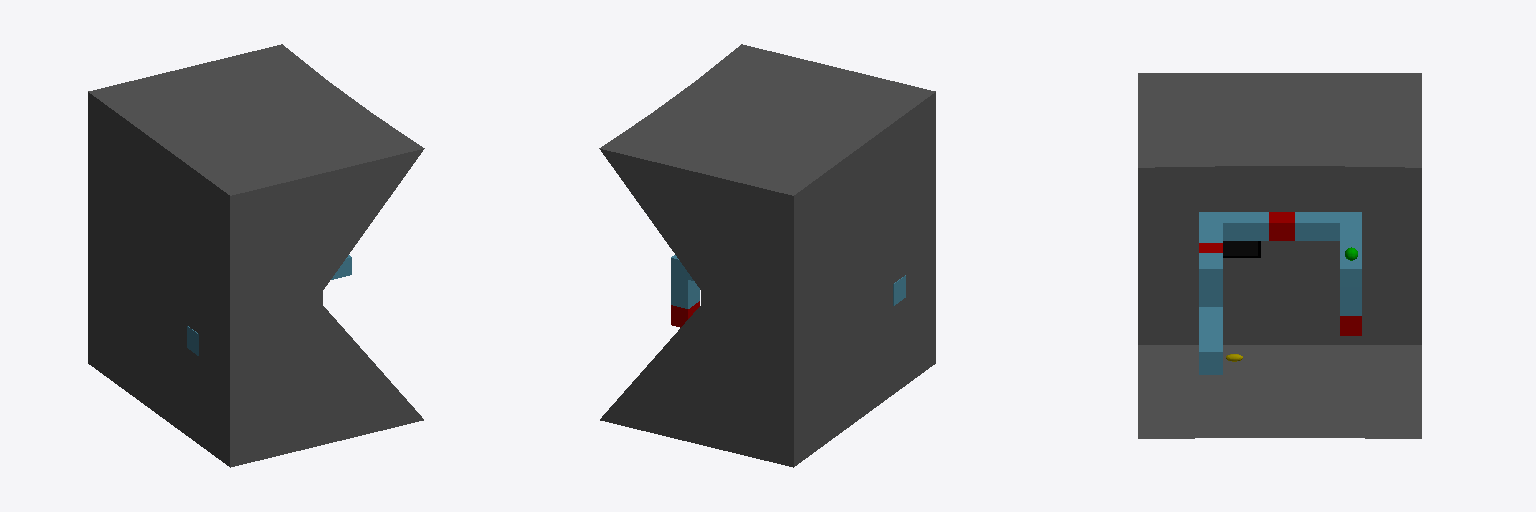
The model's file is Level_2.obj.
3 views of the same model, side by side, from view 1: azimuth 30°, elevation 25°; view 2: azimuth 150°, elevation 25°; view 3: azimuth 270°, elevation 25° (orthographic).
Parts seen in each view (by area): view 1: Cube.008_Cube.015, Cube.007_Cube.014; view 2: Cube.008_Cube.015, Cube.007_Cube.014; view 3: Cube.008_Cube.015, Cube.007_Cube.014, Plane.002_Plane.004.
Boxes of the visible parts, x1=… form: Cube.008_Cube.015: x1=88, y1=44, x2=424, y2=467; Cube.007_Cube.014: x1=187, y1=255, x2=351, y2=355; Cube.008_Cube.015: x1=599, y1=44, x2=935, y2=467; Cube.007_Cube.014: x1=671, y1=255, x2=905, y2=327; Cube.008_Cube.015: x1=1138, y1=73, x2=1421, y2=438; Cube.007_Cube.014: x1=1199, y1=212, x2=1361, y2=374; Plane.002_Plane.004: x1=1223, y1=241, x2=1260, y2=257.
Size of the model in its own units: 13.07 by 17.39 by 16.53.